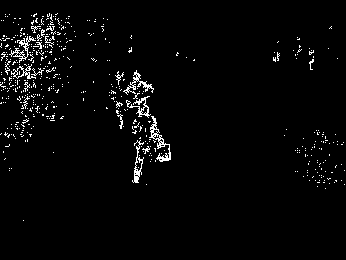person: (132, 104, 171, 184), (126, 71, 151, 110), (112, 71, 122, 128)
